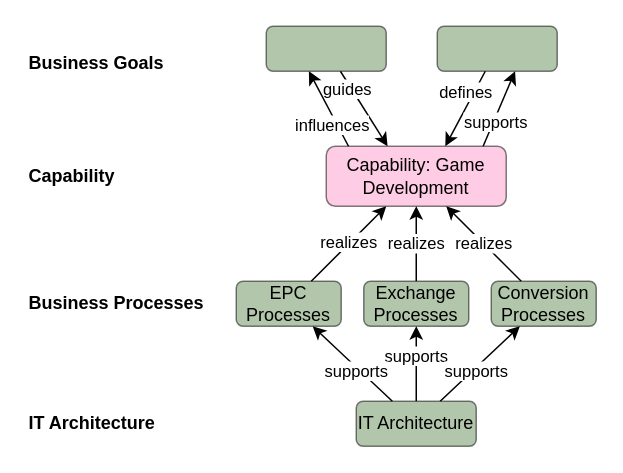
Image size: 623x473. Some labels were removed from this diagram. The shapes that lost their labels are listed below. From the top down, each one's centre as x and y in pixels, then its label:
At point (325, 48): "VDML Agents".
At point (496, 48): "BMM Means".
